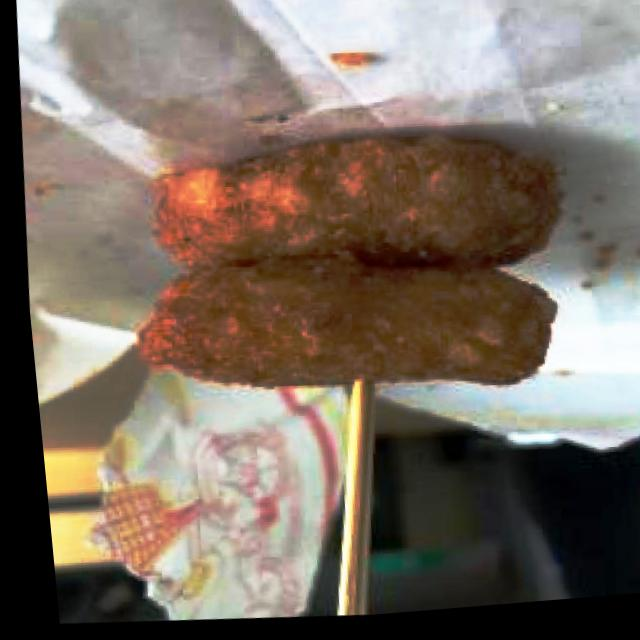Hashbrown: (138, 113, 574, 412), (147, 116, 569, 296), (146, 235, 563, 416)
